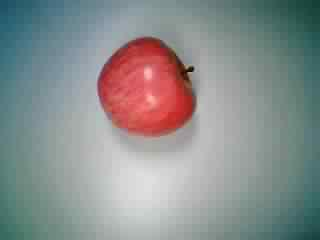apple: (96, 34, 200, 138)
